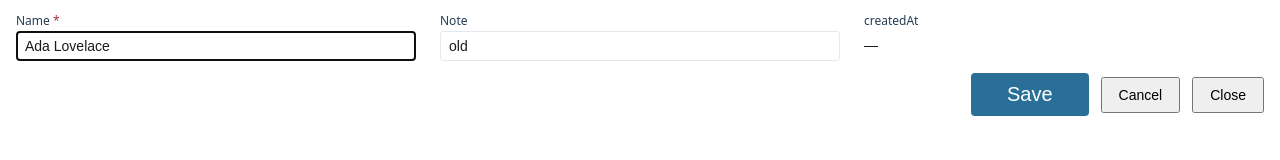
it: the form frame (REQ-032/033/039/040) › Cancel reverts to the originals and stays open (REQ-032)
Replace the text in the field labelled "Name *" with "Grace Hopper" at x=216, y=46, box [16,31,416,61]
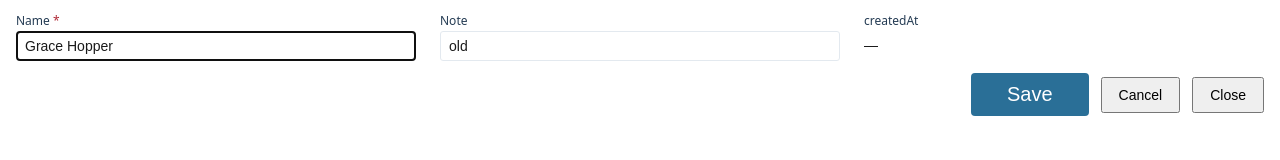
Click the button "Cancel".
click(1140, 94)  # box [1101,76,1180,112]
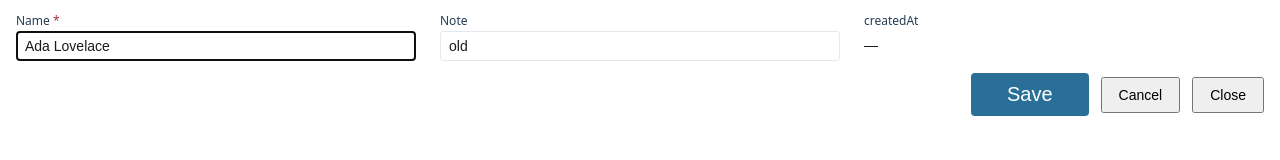
Result: the field labelled "Name *" holds "Ada Lovelace" at [16,31,416,61]
